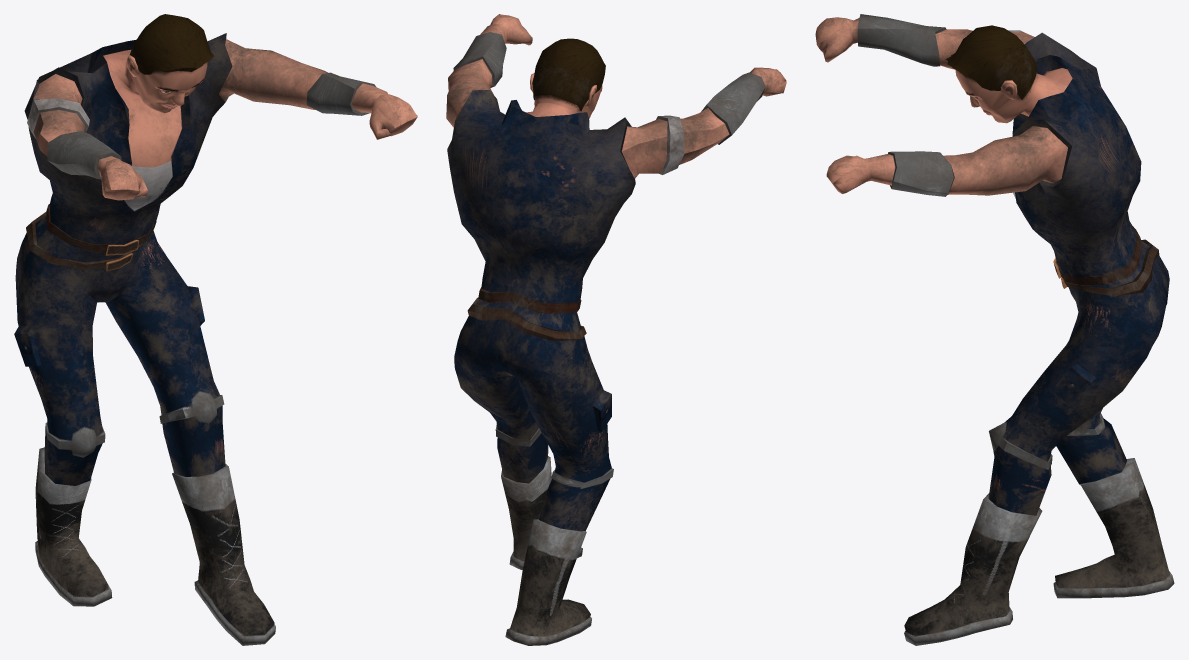
The model's file is Anim_ataque_d3_jugador.0046.obj.
3 views of the same model, side by side, from view 1: azimuth 30°, elevation 25°; view 2: azimuth 150°, elevation 25°; view 3: azimuth 270°, elevation 25° (orthographic). The views are drawn at different scales.
Parts seen in each view (by area): view 1: polySurface1; view 2: polySurface1; view 3: polySurface1.
Part boxes in pixels (left/top/right/bottom): polySurface1: left=14, top=14, right=417, bottom=645; polySurface1: left=446, top=14, right=786, bottom=645; polySurface1: left=815, top=14, right=1174, bottom=645.
Size of the model in its own units: 4.87 by 8.86 by 4.89.
